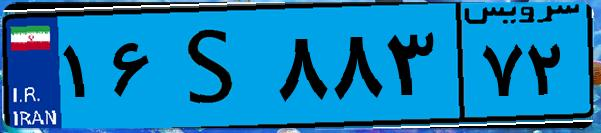1: (57, 26, 110, 100)
2: (525, 38, 570, 115)
3: (385, 28, 445, 110)
6: (110, 28, 158, 98)
7: (475, 38, 525, 113)
8: (270, 28, 330, 110), (330, 28, 385, 110)
S: (158, 12, 270, 120)
